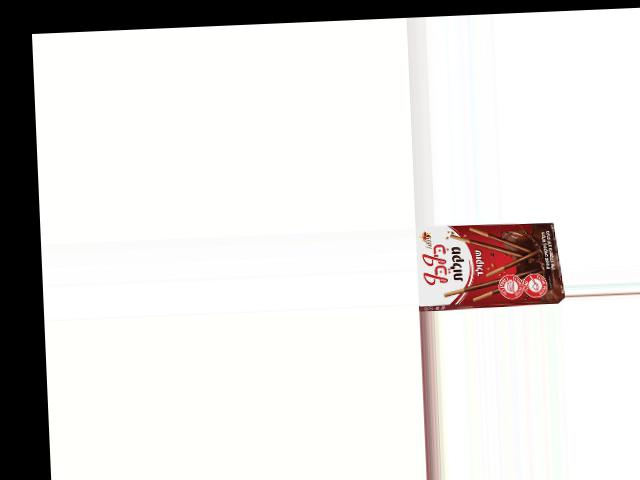chocolate: (415, 220, 555, 310)
